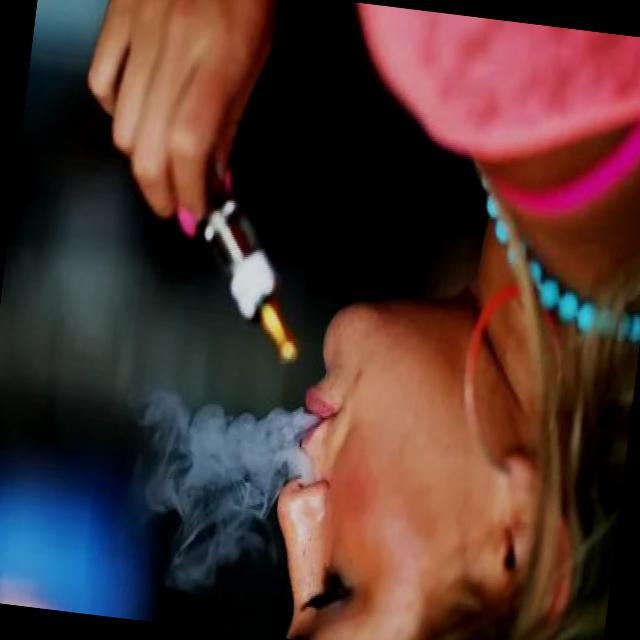cigarette: (163, 137, 328, 378)
